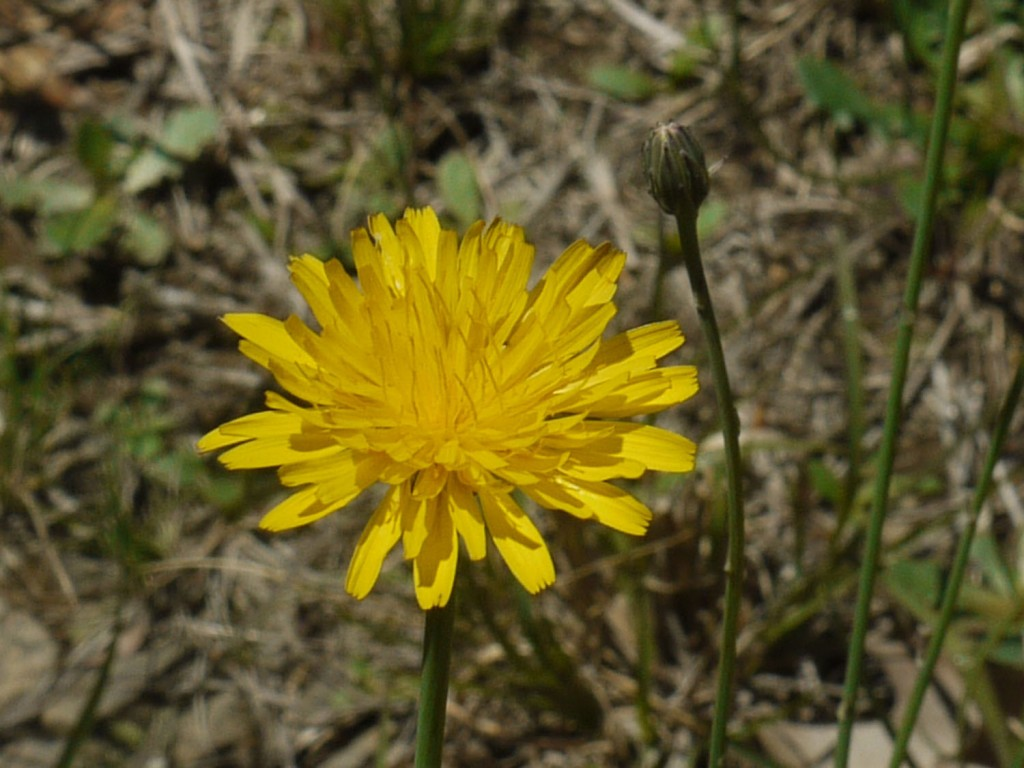dandelion: (222, 194, 714, 589)
